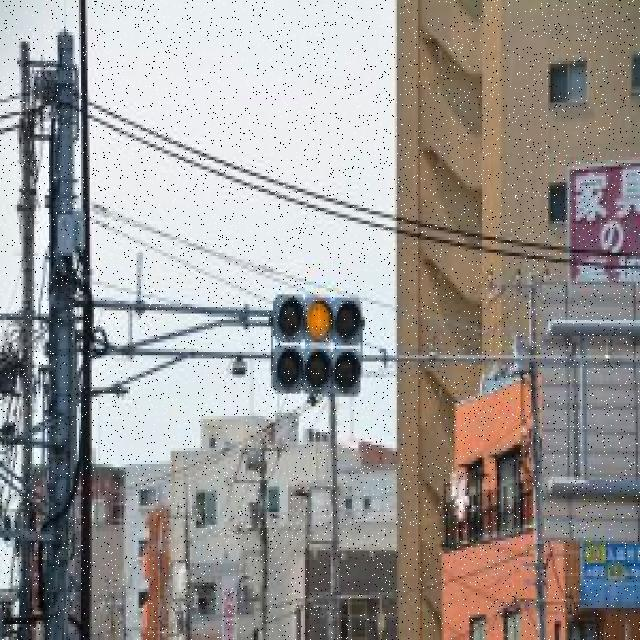yellow_light: (304, 296, 334, 343), (308, 306, 309, 318)
